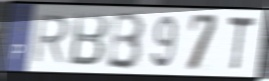7: (187, 12, 221, 73)
9: (150, 14, 178, 70)
B: (105, 11, 146, 72), (68, 11, 111, 69)
R: (31, 13, 71, 64)
T: (226, 14, 257, 74)
